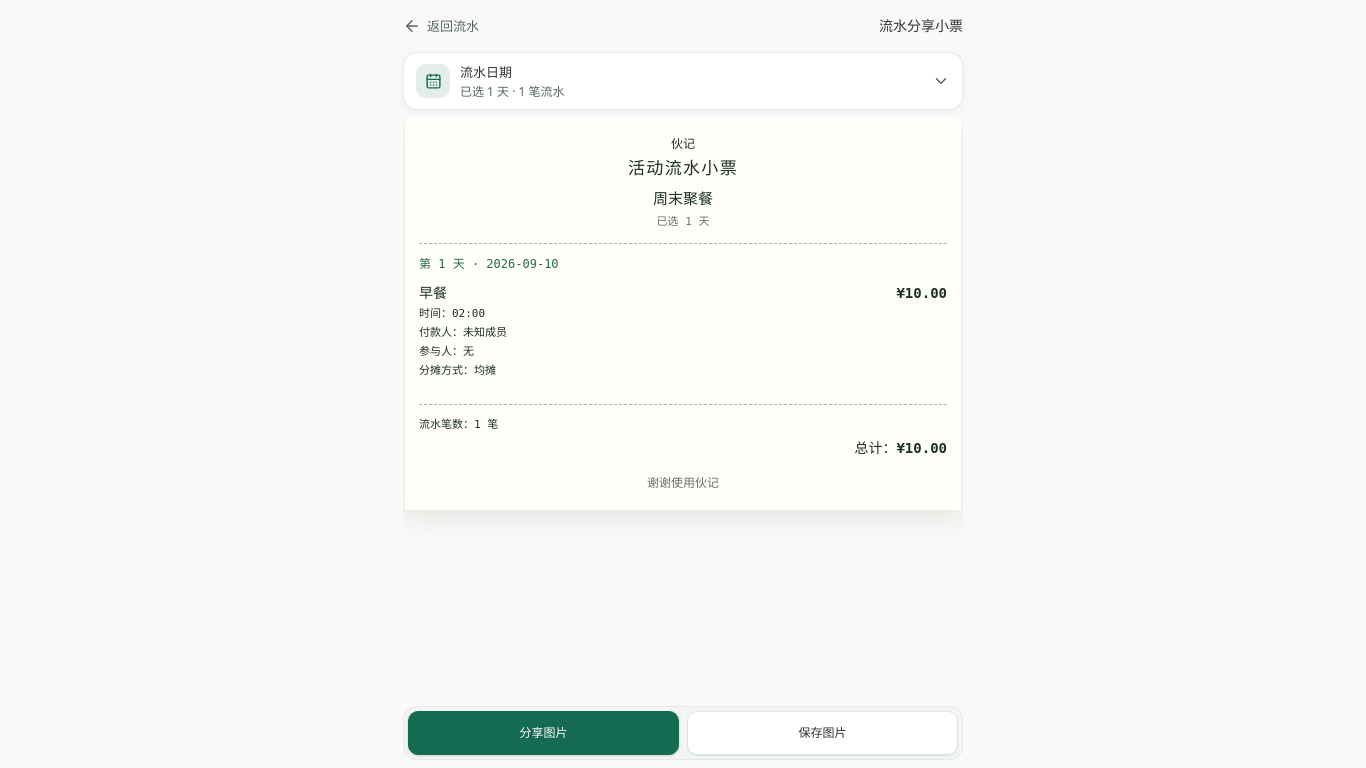
Scenario: ReceiptSharePage › 没有选中日期时禁用导出
Click the button "流水日期 已选 1 天 · 1 笔流水".
click(433, 81)  # box left=403, top=52, right=963, bottom=110
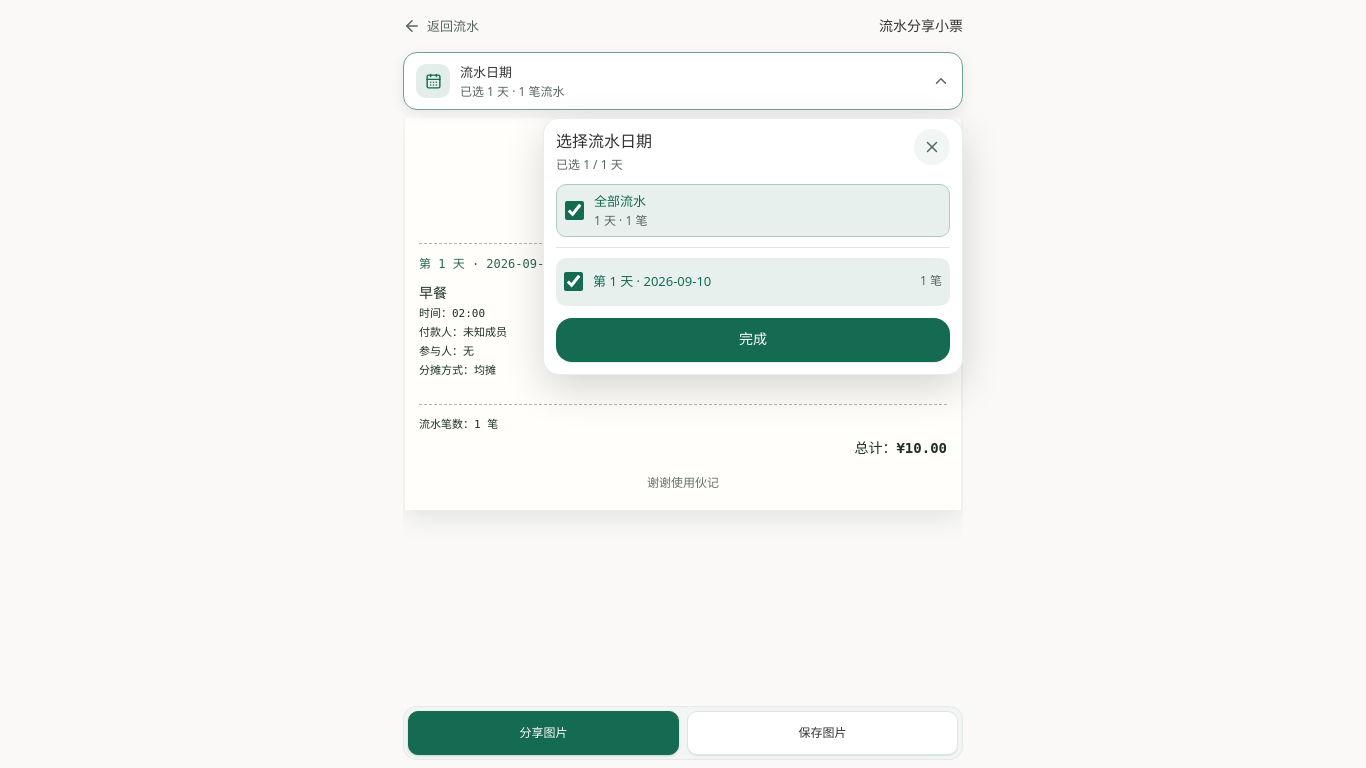
Click the checkbox labelled "第 1 天 · 2026-09-10 1 笔".
click(574, 282)  # box left=564, top=272, right=583, bottom=291
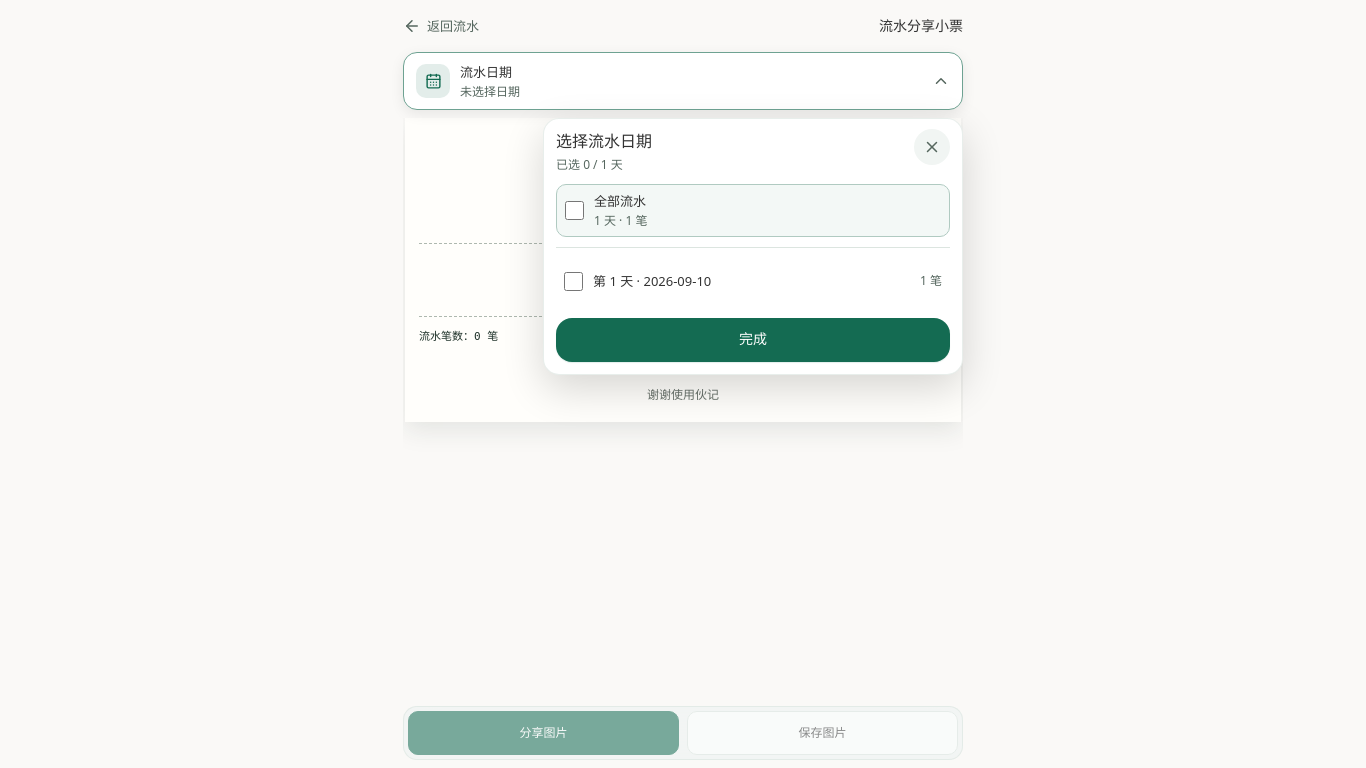
Now the text "请选择至少一个日期" is shown 2 times, box left=634, top=216, right=732, bottom=228; left=620, top=272, right=746, bottom=288
Now the button "分享图片" is disabled, box left=408, top=711, right=679, bottom=755
Now the button "保存图片" is disabled, box left=687, top=711, right=958, bottom=755
